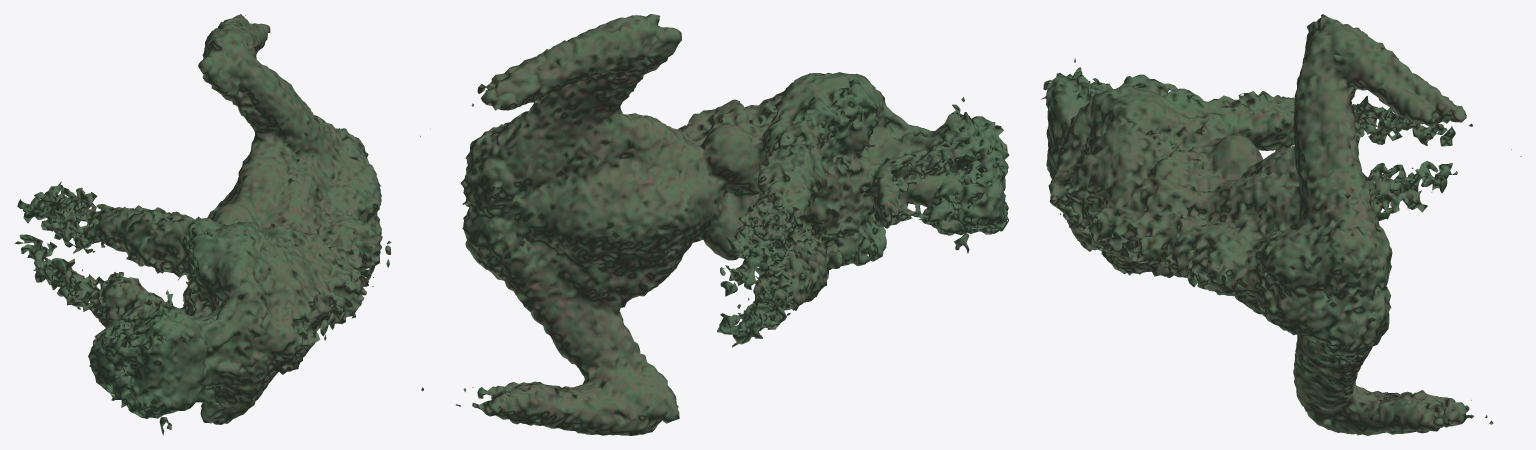
File: blob.gltf
The picture shows the model from 3 angles, left to right: view 1: azimuth 30°, elevation 25°; view 2: azimuth 150°, elevation 25°; view 3: azimuth 270°, elevation 25°; orthographic projection. The views are drawn at different scales.
Visible parts, largest first — view 1: node-0; view 2: node-0; view 3: node-0.
Part boxes in pixels (x1=…): node-0: x1=15, y1=14, x2=391, y2=435; node-0: x1=420, y1=14, x2=1009, y2=435; node-0: x1=1041, y1=14, x2=1521, y2=435.
Size of the model in its own units: 41.74 by 40.45 by 43.33.
